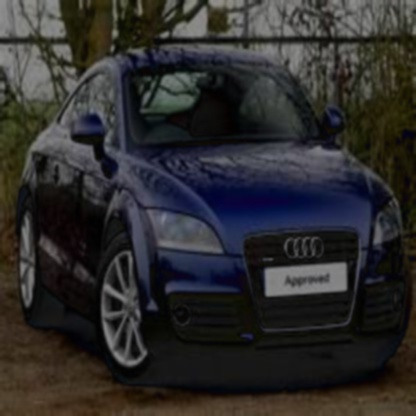Vehicle: (18, 57, 412, 390)
